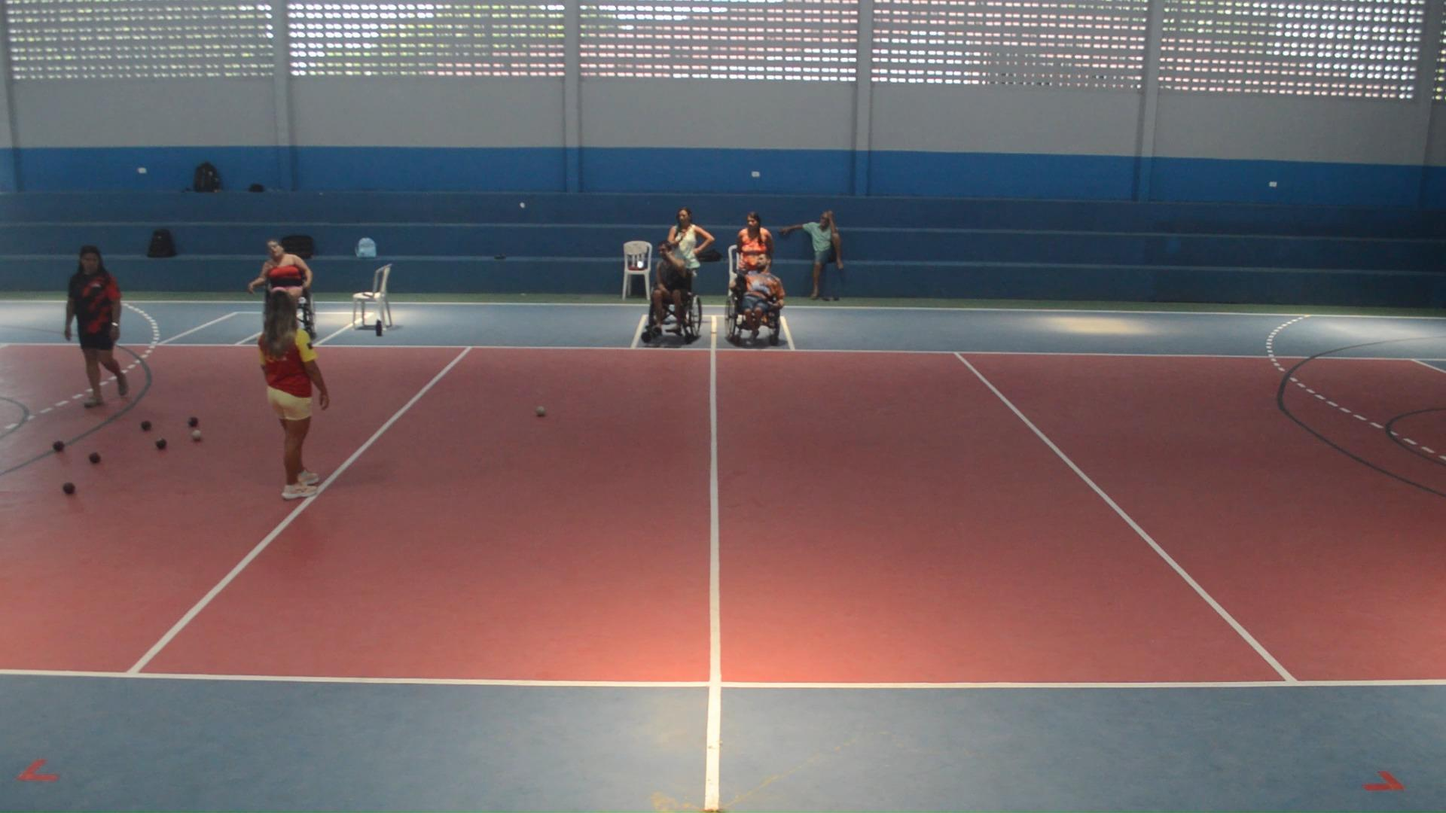white_ball: (535, 405, 545, 416)
